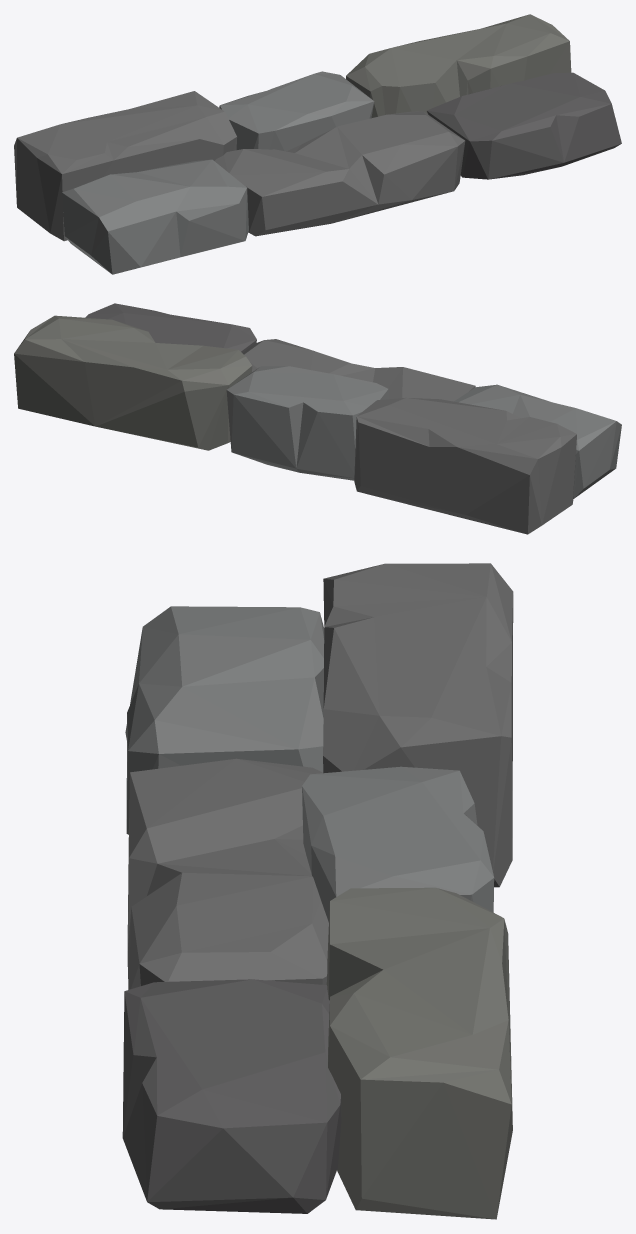
The model's file is um_stair002.FBX.
The picture shows the model from 3 angles, top to bottom: view 1: azimuth 30°, elevation 25°; view 2: azimuth 150°, elevation 25°; view 3: azimuth 270°, elevation 25°; orthographic projection. The views are drawn at different scales.
Visible parts, largest first — view 1: um_stair002; view 2: um_stair002; view 3: um_stair002.
Boxes of the visible parts, left/top/right/bottom form: um_stair002: left=14, top=14, right=621, bottom=274; um_stair002: left=14, top=303, right=621, bottom=534; um_stair002: left=122, top=563, right=513, bottom=1219.
Bounding box in the file's own units: 3.44 × 0.4982 × 1.11.
